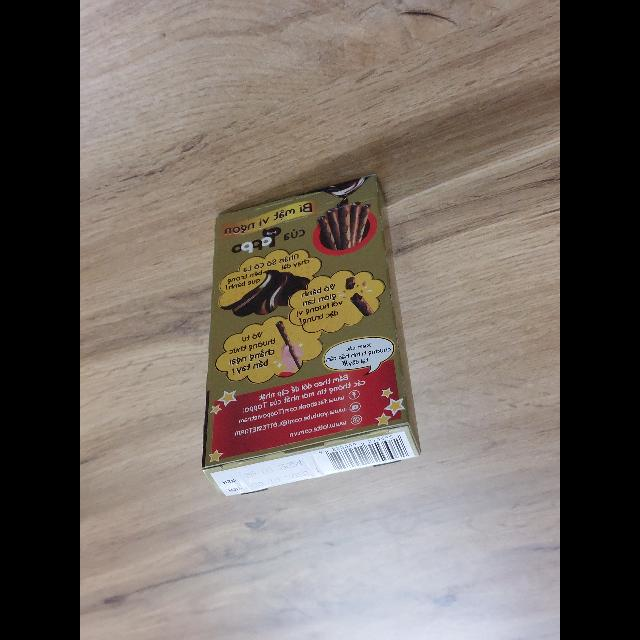banh_toppo_socola: (202, 175, 421, 496)
